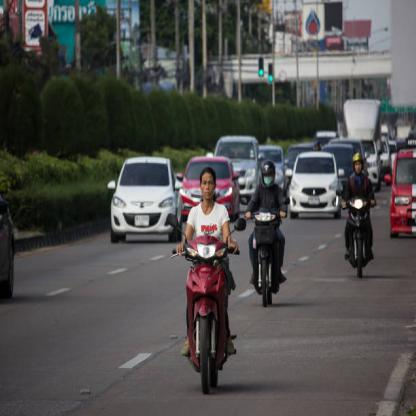Motorcycle: (174, 230, 251, 397), (239, 202, 293, 298), (333, 190, 378, 280)
